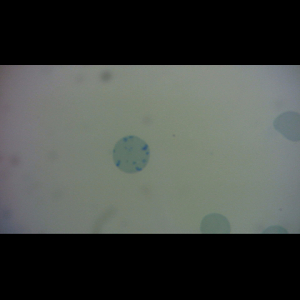aggregate reticulocyte: (111, 134, 151, 174)
